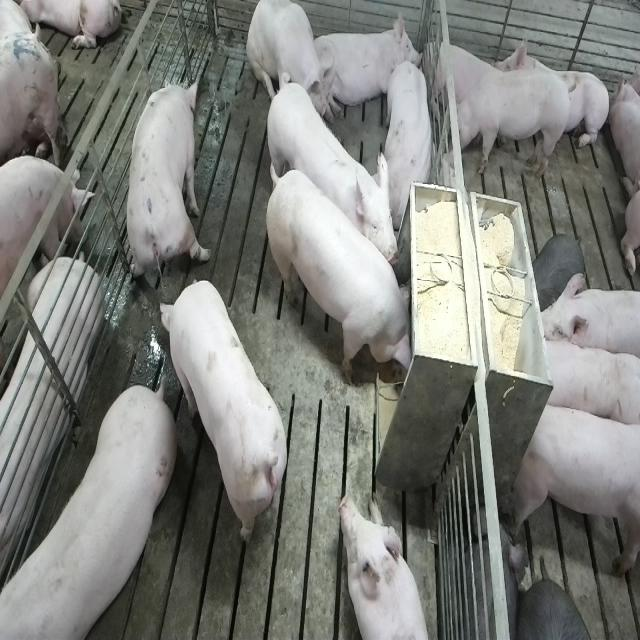Feeding: (269, 164, 422, 388)
Lateral_lying: (0, 150, 101, 590)
Sitting: (246, 1, 334, 133), (381, 60, 436, 221)
Standing: (0, 381, 173, 640), (162, 282, 293, 552), (262, 79, 398, 280), (509, 397, 639, 580), (124, 74, 209, 298), (446, 66, 574, 177), (534, 331, 637, 431), (535, 273, 640, 369)
Sternal_lying: (494, 30, 608, 158), (339, 490, 433, 640), (316, 14, 423, 128), (426, 34, 500, 118)
